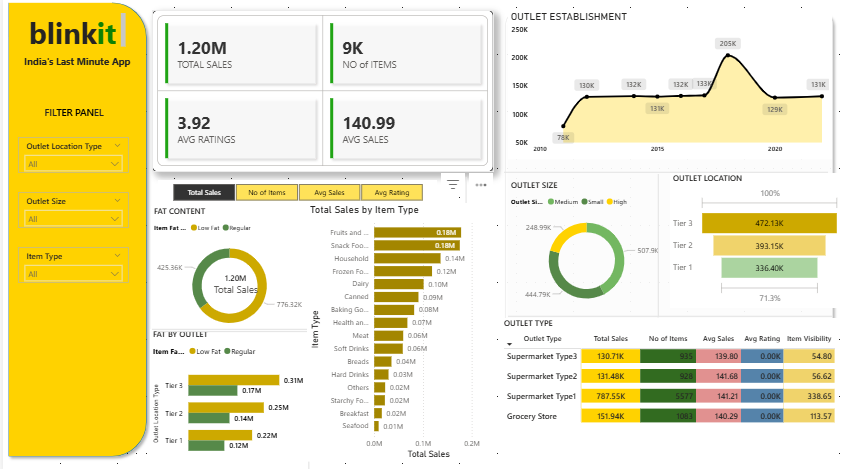

The page's visual inventory and layout, read from the dashboard file:
{"tool":"powerbi","page":{"name":"Page 1","canvas":[1400,800],"ordinal":0},"visuals":[{"type":"shape","box":[0,0,248.9,774.5],"z":0},{"type":"textbox","box":[39.1,21.2,170.8,70],"z":1000},{"type":"textbox","box":[29.3,91.1,190.4,37.4],"z":2000},{"type":"cardVisual","fields":{"Data":["BlinkIT Grocery Data.Total Sales","BlinkIT Grocery Data.No of Items","BlinkIT Grocery Data.Avg Rating","BlinkIT Grocery Data.Avg Sales"]},"box":[248.9,21.2,569.5,270.1],"z":3000},{"type":"donutChart","title":"FAT CONTENT","fields":{"Y":["BlinkIT Grocery Data.Total Sales"],"Category":["BlinkIT Grocery Data.Item Fat Content"]},"box":[247.3,348.2,262,221.3],"z":4000},{"type":"slicer","fields":{"Values":["Metrics.Metrics"]},"box":[258.7,304.3,465.4,40.7],"z":5000},{"type":"cardVisual","fields":{"Data":["BlinkIT Grocery Data.Total Sales"]},"box":[325.4,436.1,126.9,81.4],"z":6000},{"type":"clusteredBarChart","title":"FAT BY OUTLET","fields":{"Y":["BlinkIT Grocery Data.Total Sales"],"Category":["BlinkIT Grocery Data.Outlet Location Type"],"Series":["BlinkIT Grocery Data.Item Fat Content"]},"box":[245,553.3,261.7,228.3],"z":7000},{"type":"shape","box":[248.5,527.1,261.6,54.6],"z":8000},{"type":"shape","box":[483.8,342.6,52.7,453.6],"z":9000},{"type":"shape","box":[256.7,530,261.7,55],"z":10000},{"type":"shape","box":[828.3,18.3,563.3,778.3],"z":11000},{"type":"lineChart","title":"OUTLET ESTABLISHMENT","fields":{"Y":["BlinkIT Grocery Data.Total Sales"],"Category":["BlinkIT Grocery Data.Outlet Establishment Year"]},"box":[841.2,21.2,540.2,248.9],"z":12000},{"type":"shape","box":[835.8,280.5,540.2,24.5],"z":13000},{"type":"donutChart","title":"OUTLET SIZE","fields":{"Y":["BlinkIT Grocery Data.Total Sales","BlinkIT Grocery Data.Total Sales"],"Category":["BlinkIT Grocery Data.Outlet Size"]},"box":[841.2,304.3,262,224.5],"z":14000},{"type":"shape","box":[745.2,299.4,53.7,454],"z":15000},{"type":"shape","box":[1082.2,295.6,21.1,238.9],"z":16000},{"type":"barChart","fields":{"Y":["BlinkIT Grocery Data.Total Sales"],"Category":["BlinkIT Grocery Data.Item Type"]},"box":[506,343.3,312.4,431.2],"z":17000},{"type":"funnel","title":"OUTLET LOCATION","fields":{"Y":["Sum(BlinkIT Grocery Data.Sales)"],"Category":["BlinkIT Grocery Data.Outlet Location Type"]},"box":[1111.3,292.9,288,224.5],"z":18000},{"type":"shape","box":[841.2,520.7,540.2,24.4],"z":19000},{"type":"pivotTable","title":"OUTLET TYPE","fields":{"Rows":["BlinkIT Grocery Data.Outlet Type"],"Values":["BlinkIT Grocery Data.Total Sales","BlinkIT Grocery Data.No of Items","BlinkIT Grocery Data.Avg Sales","BlinkIT Grocery Data.Avg Rating","Sum(BlinkIT Grocery Data.Item Visibility)"]},"box":[830,535,561.7,265],"z":20000},{"type":"slicer","fields":{"Values":["BlinkIT Grocery Data.Outlet Location Type"]},"box":[25,233.3,185,60],"z":21000},{"type":"slicer","fields":{"Values":["BlinkIT Grocery Data.Outlet Size"]},"box":[25,325,185,60],"z":22000},{"type":"slicer","fields":{"Values":["BlinkIT Grocery Data.Item Type"]},"box":[25,416.7,185,60],"z":23000},{"type":"textbox","box":[63.3,176.7,110,45],"z":24000}]}

Visuals, with their boxes in screenshot pixels (x1, y1, x2, y2), scaled from the page's 1400x800 canvas onto the 843x469 screenshot:
shape: [left=0, top=0, right=150, bottom=454]
textbox: [left=24, top=12, right=126, bottom=53]
textbox: [left=18, top=53, right=132, bottom=75]
cardVisual - BlinkIT Grocery Data.Total Sales x BlinkIT Grocery Data.No of Items: [left=150, top=12, right=493, bottom=171]
"FAT CONTENT" donutChart: [left=149, top=204, right=307, bottom=334]
slicer - Metrics.Metrics: [left=156, top=178, right=436, bottom=202]
cardVisual - BlinkIT Grocery Data.Total Sales: [left=196, top=256, right=272, bottom=303]
"FAT BY OUTLET" clusteredBarChart: [left=148, top=324, right=305, bottom=458]
shape: [left=150, top=309, right=307, bottom=341]
shape: [left=291, top=201, right=323, bottom=467]
shape: [left=155, top=311, right=312, bottom=343]
shape: [left=499, top=11, right=838, bottom=467]
"OUTLET ESTABLISHMENT" lineChart: [left=507, top=12, right=832, bottom=158]
shape: [left=503, top=164, right=829, bottom=179]
"OUTLET SIZE" donutChart: [left=507, top=178, right=664, bottom=310]
shape: [left=449, top=176, right=481, bottom=442]
shape: [left=652, top=173, right=664, bottom=313]
barChart - BlinkIT Grocery Data.Total Sales x BlinkIT Grocery Data.Item Type: [left=305, top=201, right=493, bottom=454]
"OUTLET LOCATION" funnel: [left=669, top=172, right=842, bottom=303]
shape: [left=507, top=305, right=832, bottom=320]
"OUTLET TYPE" pivotTable: [left=500, top=314, right=838, bottom=468]
slicer - BlinkIT Grocery Data.Outlet Location Type: [left=15, top=137, right=126, bottom=172]
slicer - BlinkIT Grocery Data.Outlet Size: [left=15, top=191, right=126, bottom=226]
slicer - BlinkIT Grocery Data.Item Type: [left=15, top=244, right=126, bottom=279]
textbox: [left=38, top=104, right=104, bottom=130]
